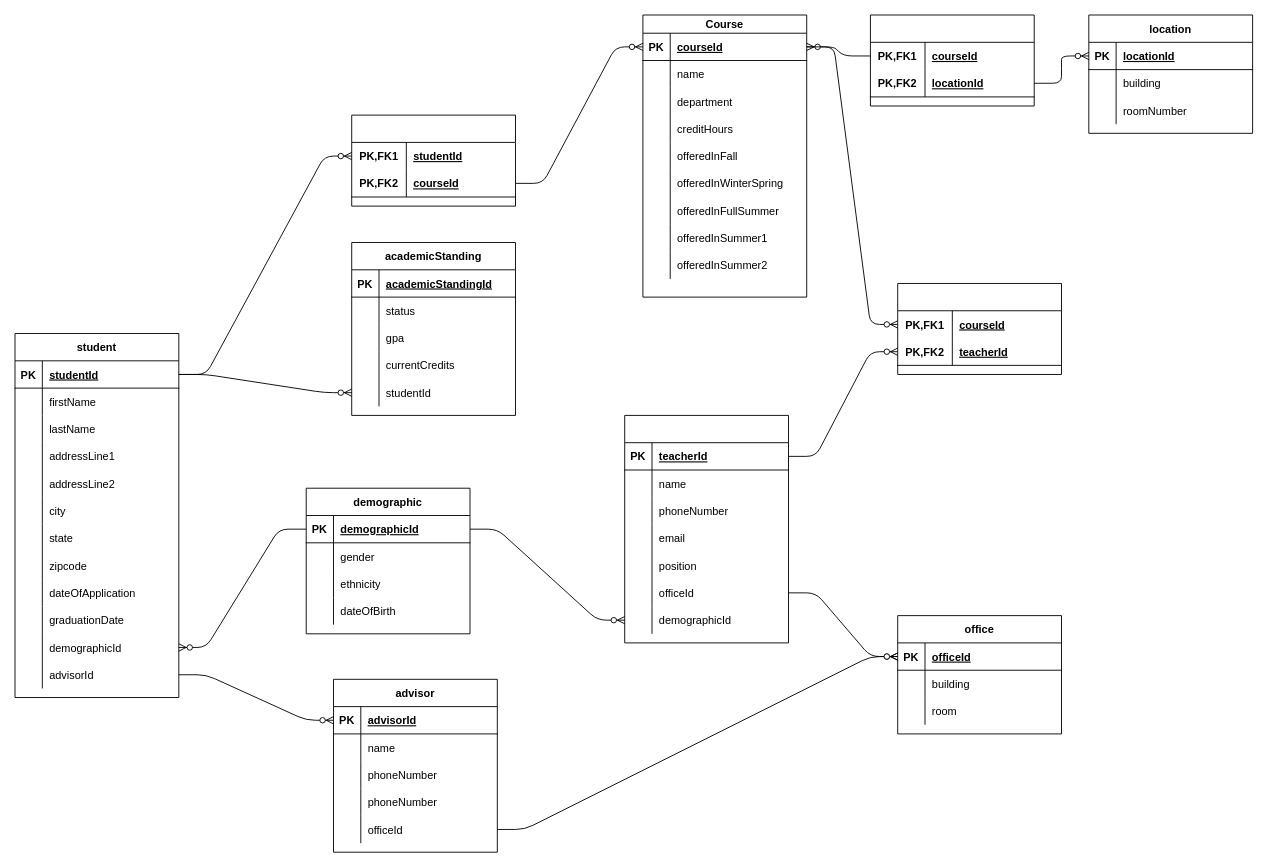
Image size: 1268x867. Some labels were removed from this diagram. Here are the shapes that lost their labels. From the top down, the box of each, then its label:
(870, 14, 1034, 106): courseLocation
(351, 114, 516, 206): studentCourses
(897, 283, 1062, 374): course_teacher
(624, 415, 789, 643): teachers
